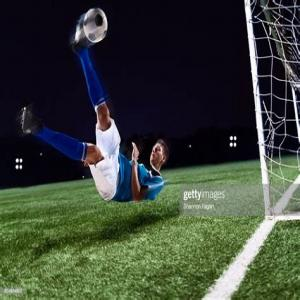Golf: (84, 6, 109, 47)
